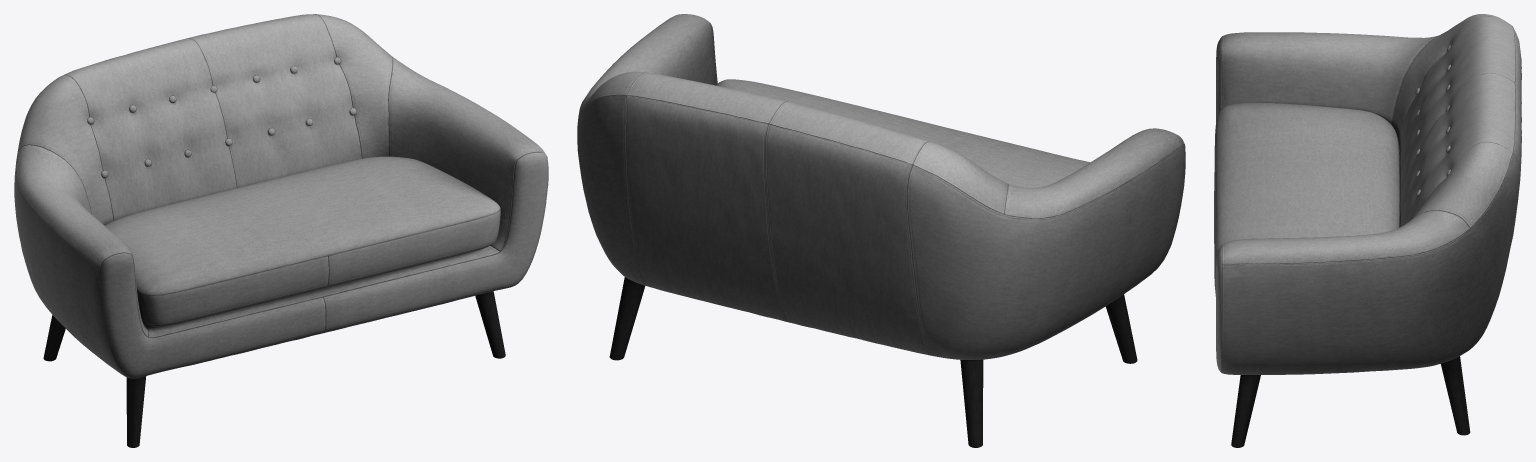
3 views of the same model, side by side, from view 1: azimuth 30°, elevation 25°; view 2: azimuth 150°, elevation 25°; view 3: azimuth 270°, elevation 25° (orthographic). The views are drawn at different scales.
Visible parts, largest first — view 1: FABRIC, BLACK, BUTTONS; view 2: FABRIC, BLACK; view 3: FABRIC, BLACK.
Boxes of the visible parts, <box> form: FABRIC: <box>14,14,548,378</box>; BLACK: <box>43,291,505,447</box>; BUTTONS: <box>87,57,356,177</box>; FABRIC: <box>577,14,1185,359</box>; BLACK: <box>609,277,1137,447</box>; FABRIC: <box>1214,14,1521,374</box>; BLACK: <box>1231,356,1470,447</box>.
Size of what is drawn, in the model's own units: 149 by 85.71 by 85.45.
Materials: 3 (3 with a texture image).
